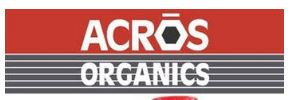AcrosOrganics: (80, 12, 211, 87)
